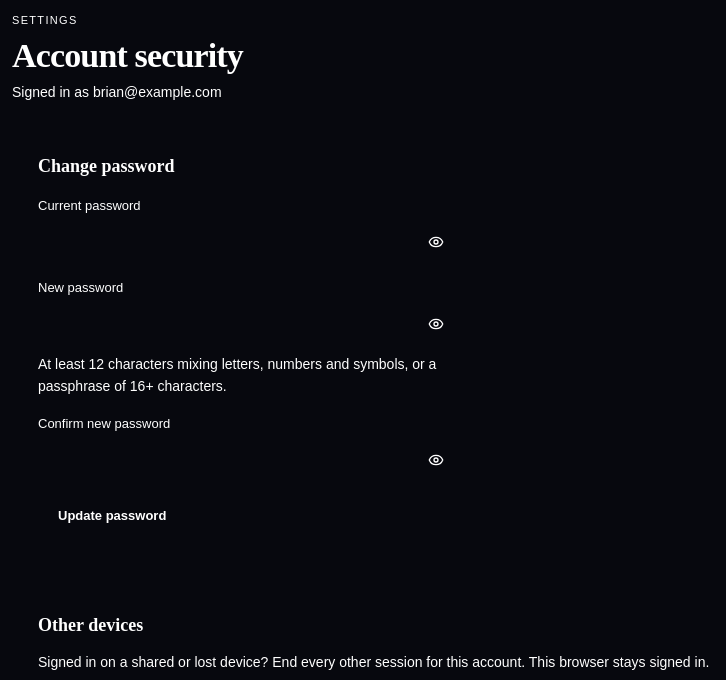
Test case: change password › stops when the current password is wrong
Type "wrong-password" into the password field labelled "Current password" at (248, 242), box [38, 222, 458, 262]
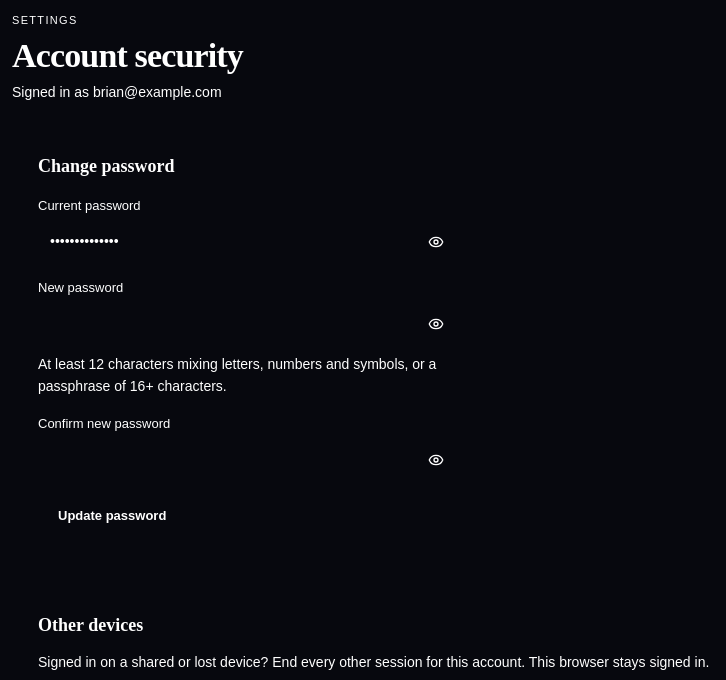
Type "Harbor-Lantern-2026" into the password field labelled "New password" at (248, 324), box [38, 304, 458, 345]
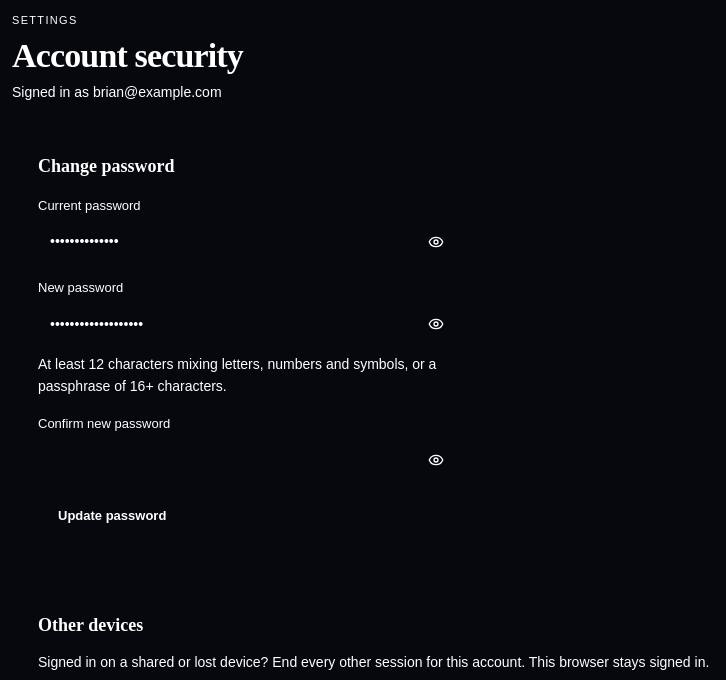
Type "Harbor-Lantern-2026" into the password field labelled "Confirm new password" at (248, 460), box [38, 439, 458, 480]
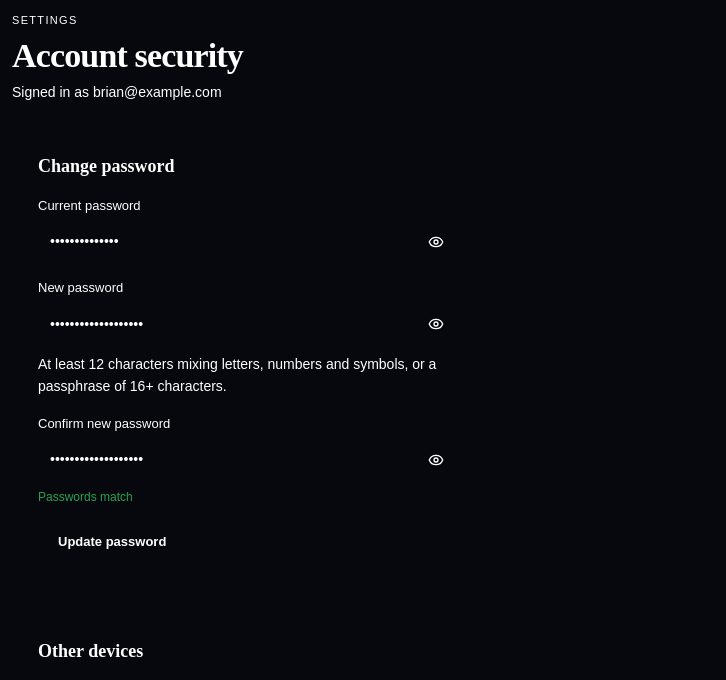
Click the button "Update password" at (112, 542), box [38, 522, 186, 562]
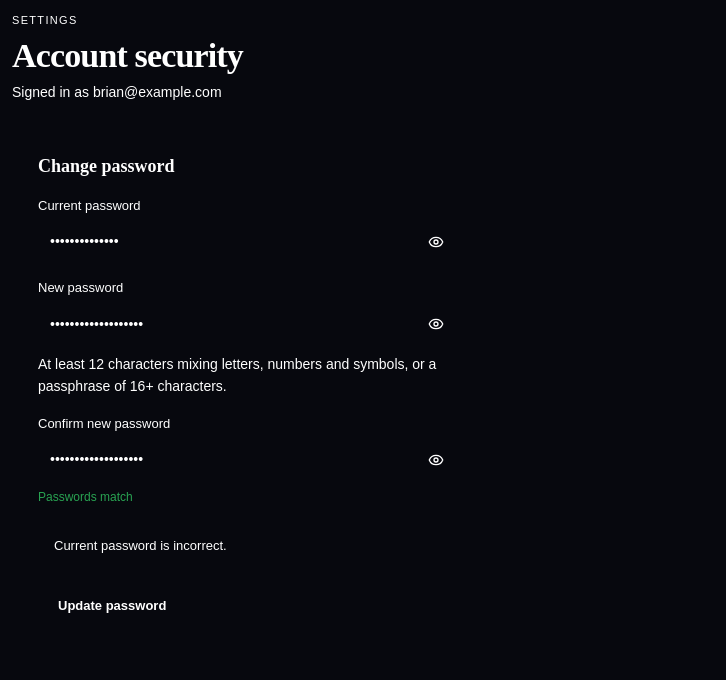
Result: the message reads "Current password is incorrect." at [54, 538, 227, 553]
